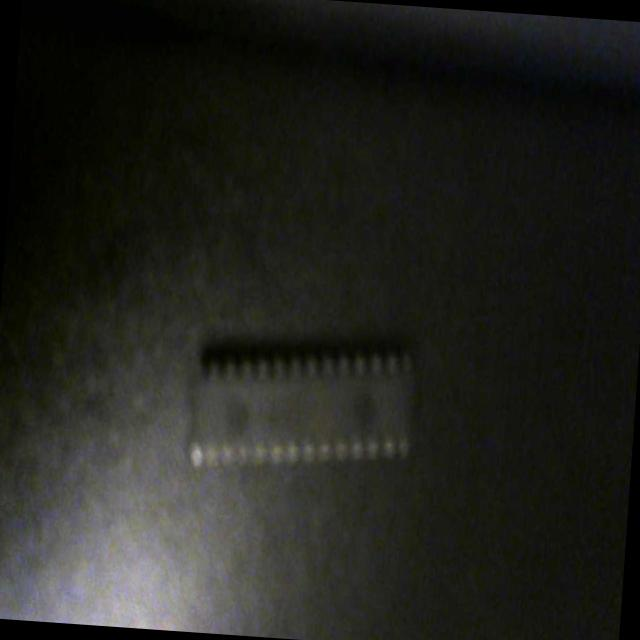atmega: (180, 319, 424, 493)
